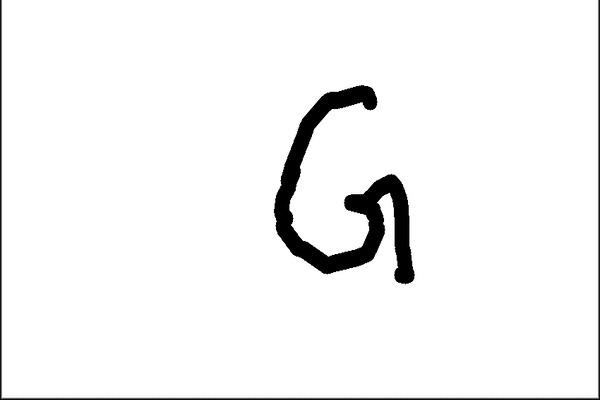G: (269, 81, 421, 287)
